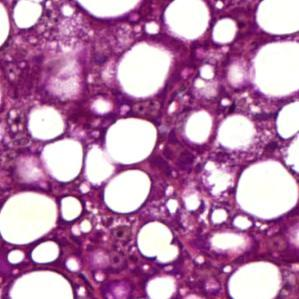steatosis: (237, 166, 299, 224), (0, 191, 64, 247), (120, 38, 174, 101), (100, 113, 159, 162), (161, 0, 215, 40), (42, 139, 88, 182), (108, 171, 151, 215), (29, 102, 68, 139), (220, 118, 259, 151), (187, 111, 212, 144)
